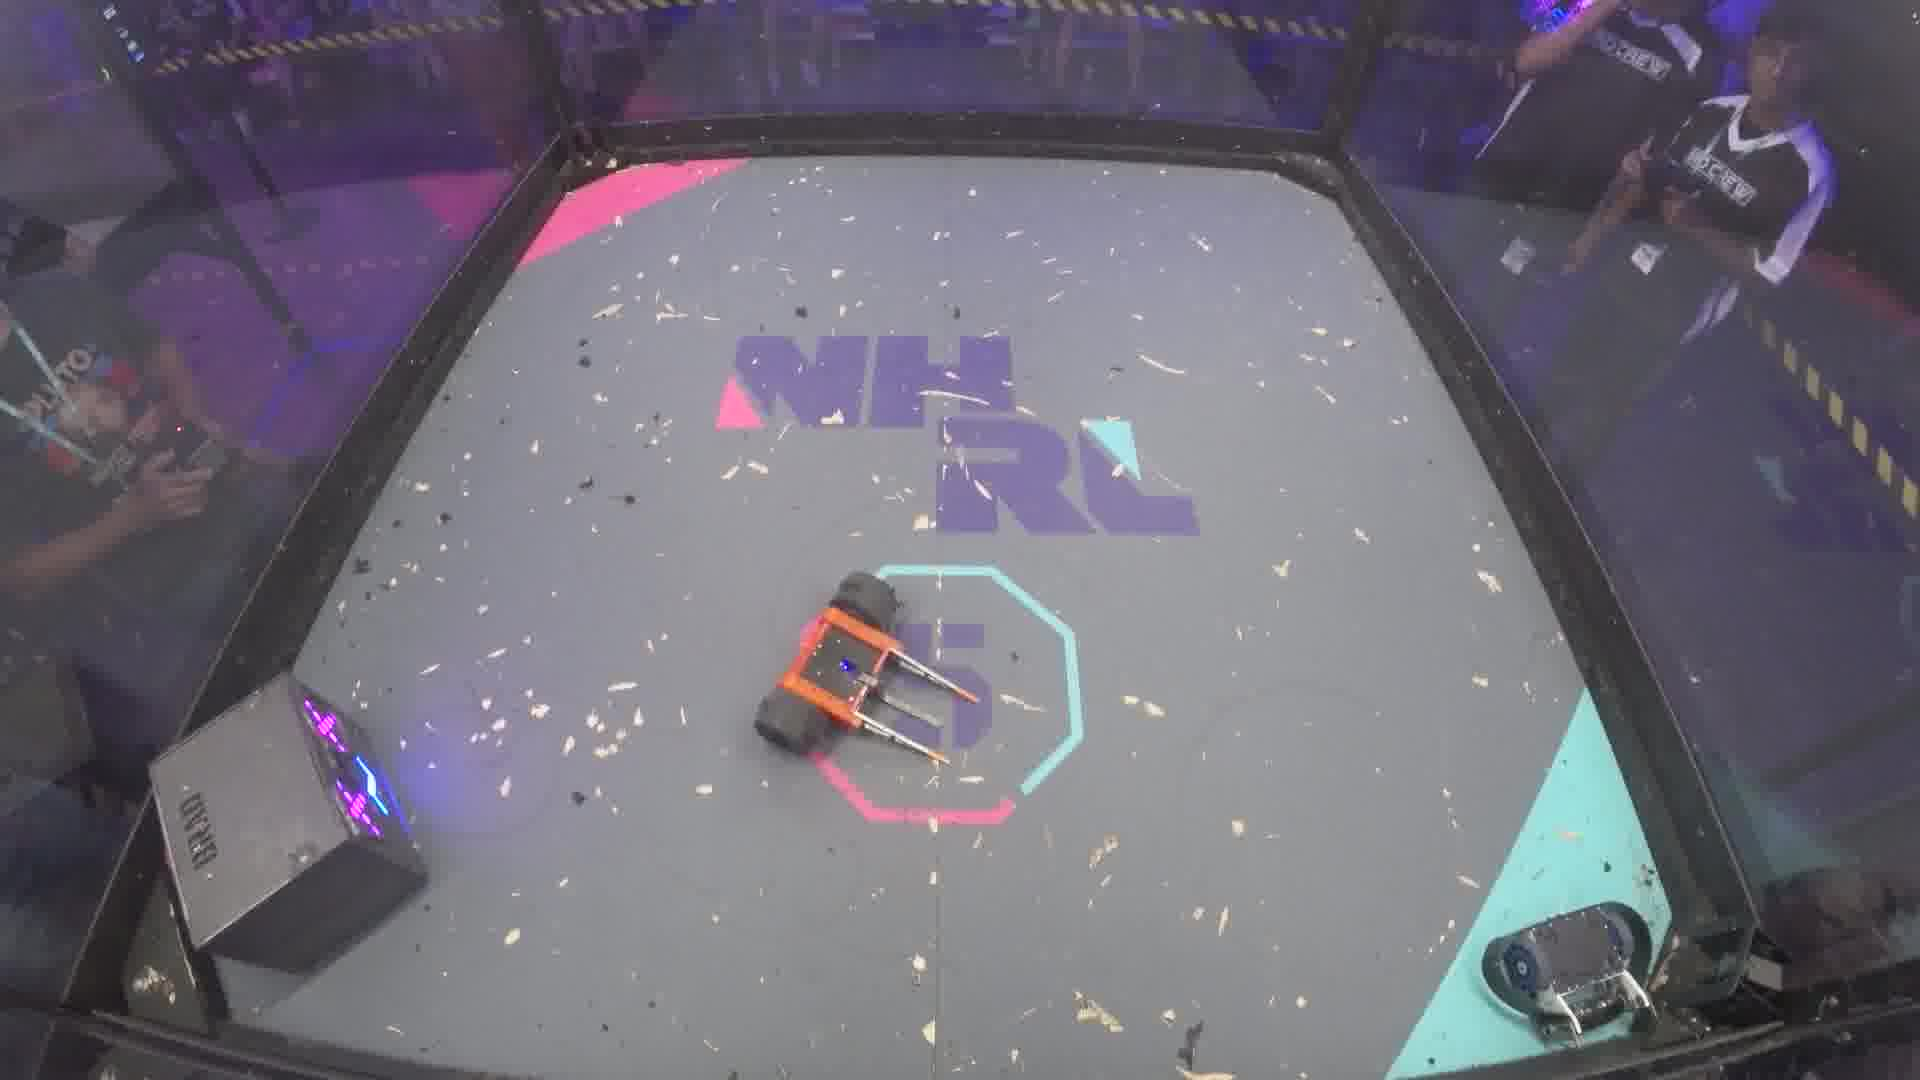combatbot: (752, 570, 905, 767), (1482, 901, 1654, 1043)
housebot: (146, 670, 434, 973)
